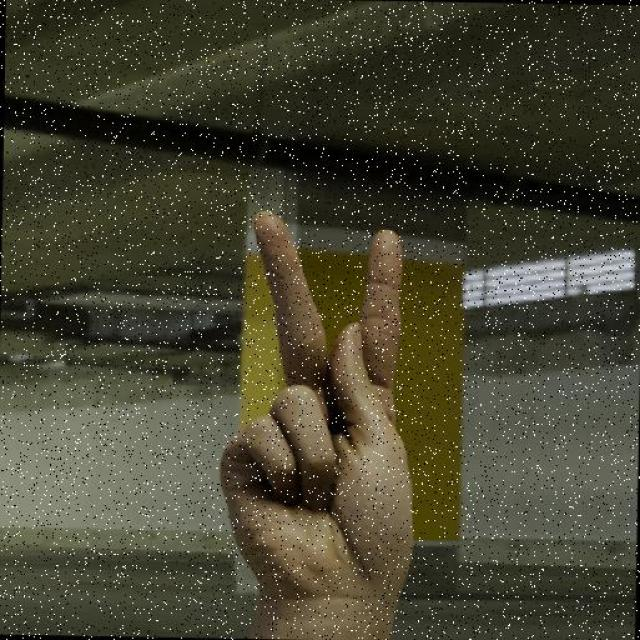K: (207, 205, 427, 640)
